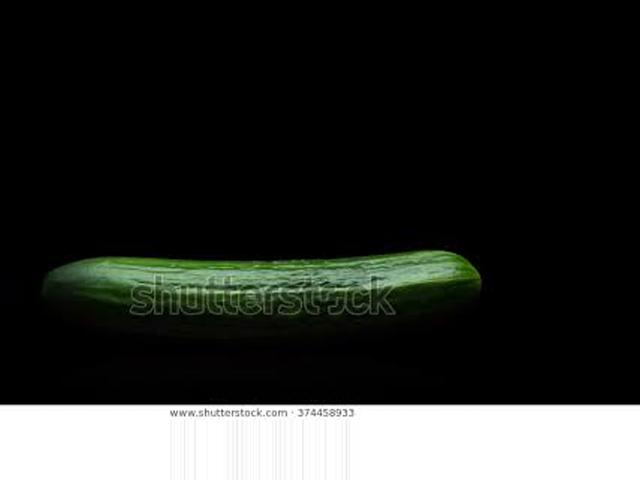cucumber: (43, 252, 484, 318)
